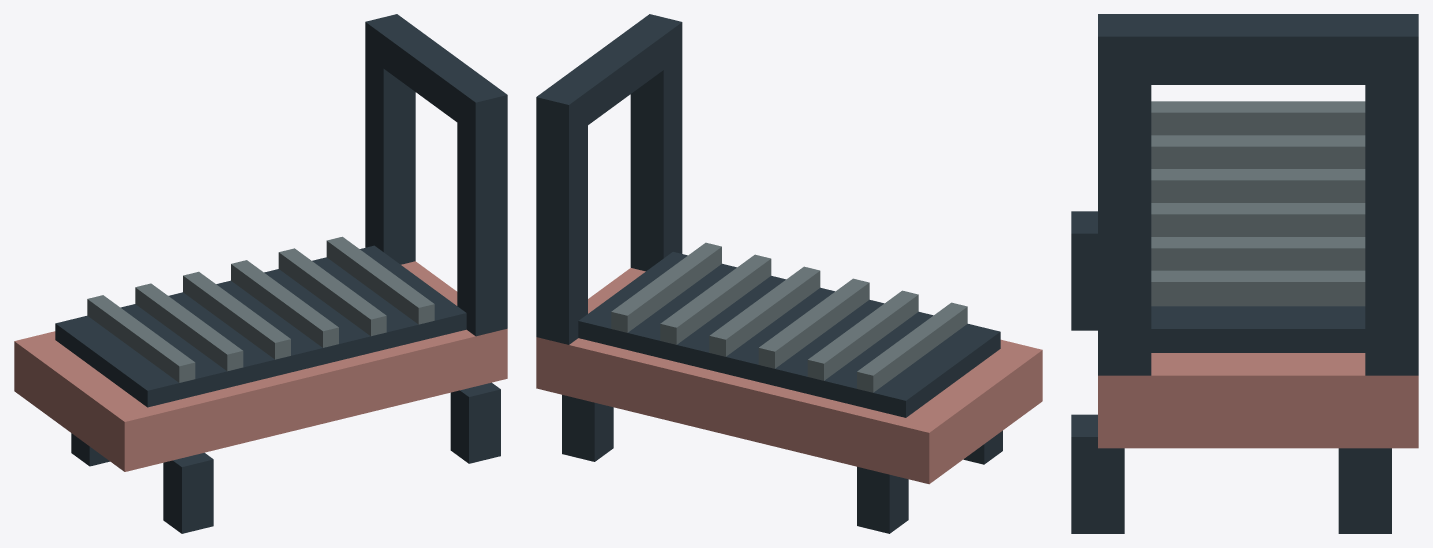
File: commerce-03.glb
The picture shows the model from 3 angles, left to right: view 1: azimuth 30°, elevation 25°; view 2: azimuth 150°, elevation 25°; view 3: azimuth 270°, elevation 25°; orthographic projection. The views are drawn at different scales.
Parts seen in each view (by area): view 1: Shopping cart; view 2: Shopping cart; view 3: Shopping cart.
Part boxes in pixels (x1=…): Shopping cart: x1=14, y1=14, x2=507, y2=533; Shopping cart: x1=536, y1=14, x2=1042, y2=533; Shopping cart: x1=1071, y1=14, x2=1418, y2=533.
Bounding box in the file's own units: 1.92 × 1.68 × 1.04.
